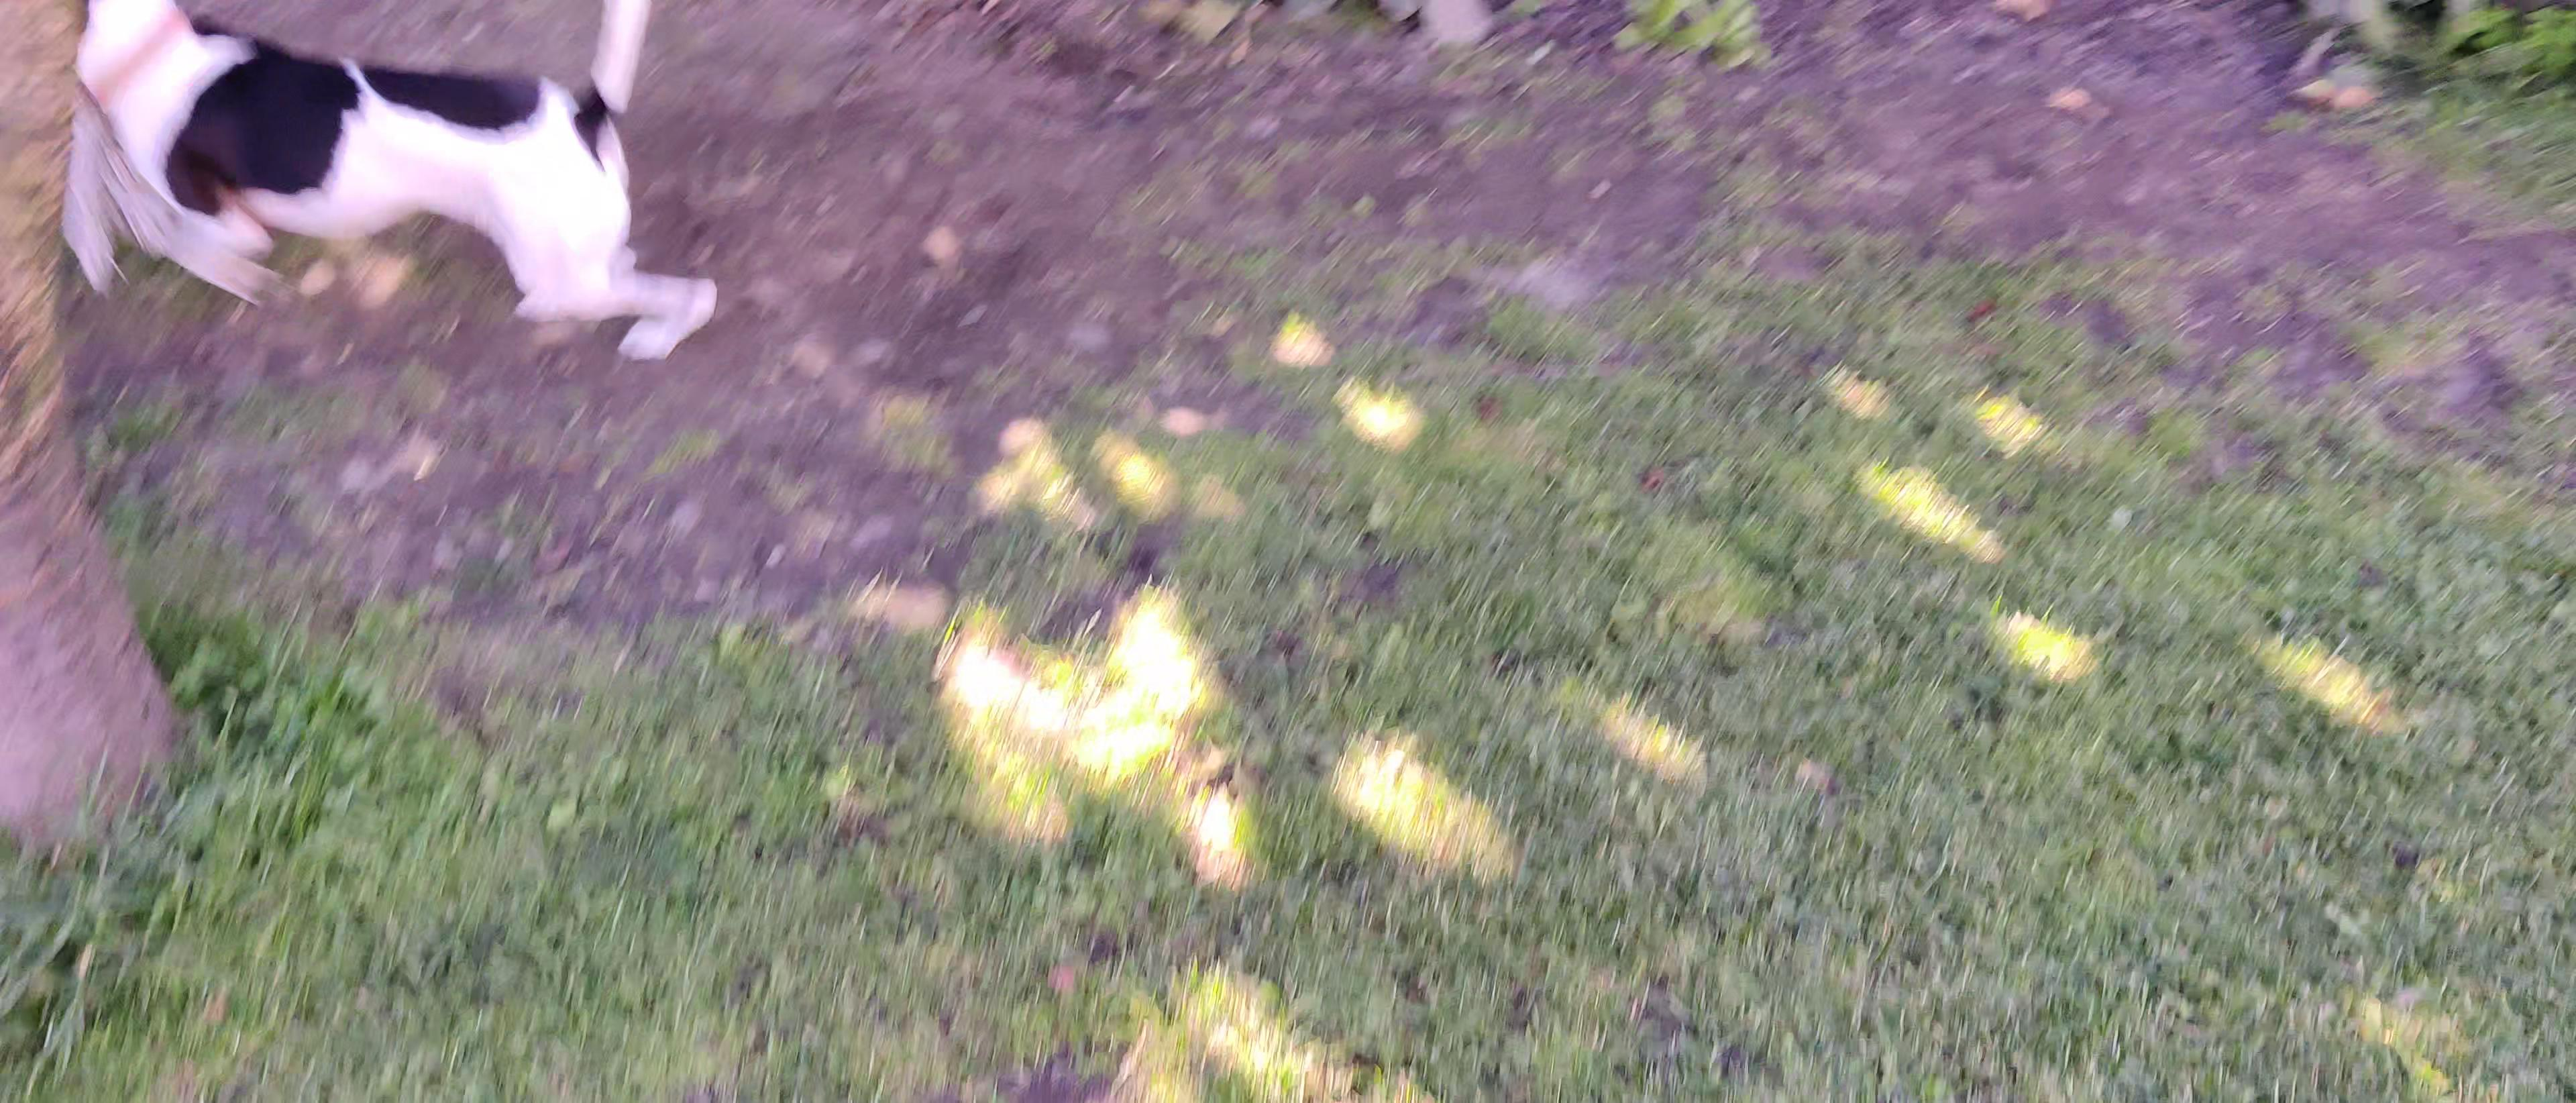Dog: (66, 0, 724, 380)
